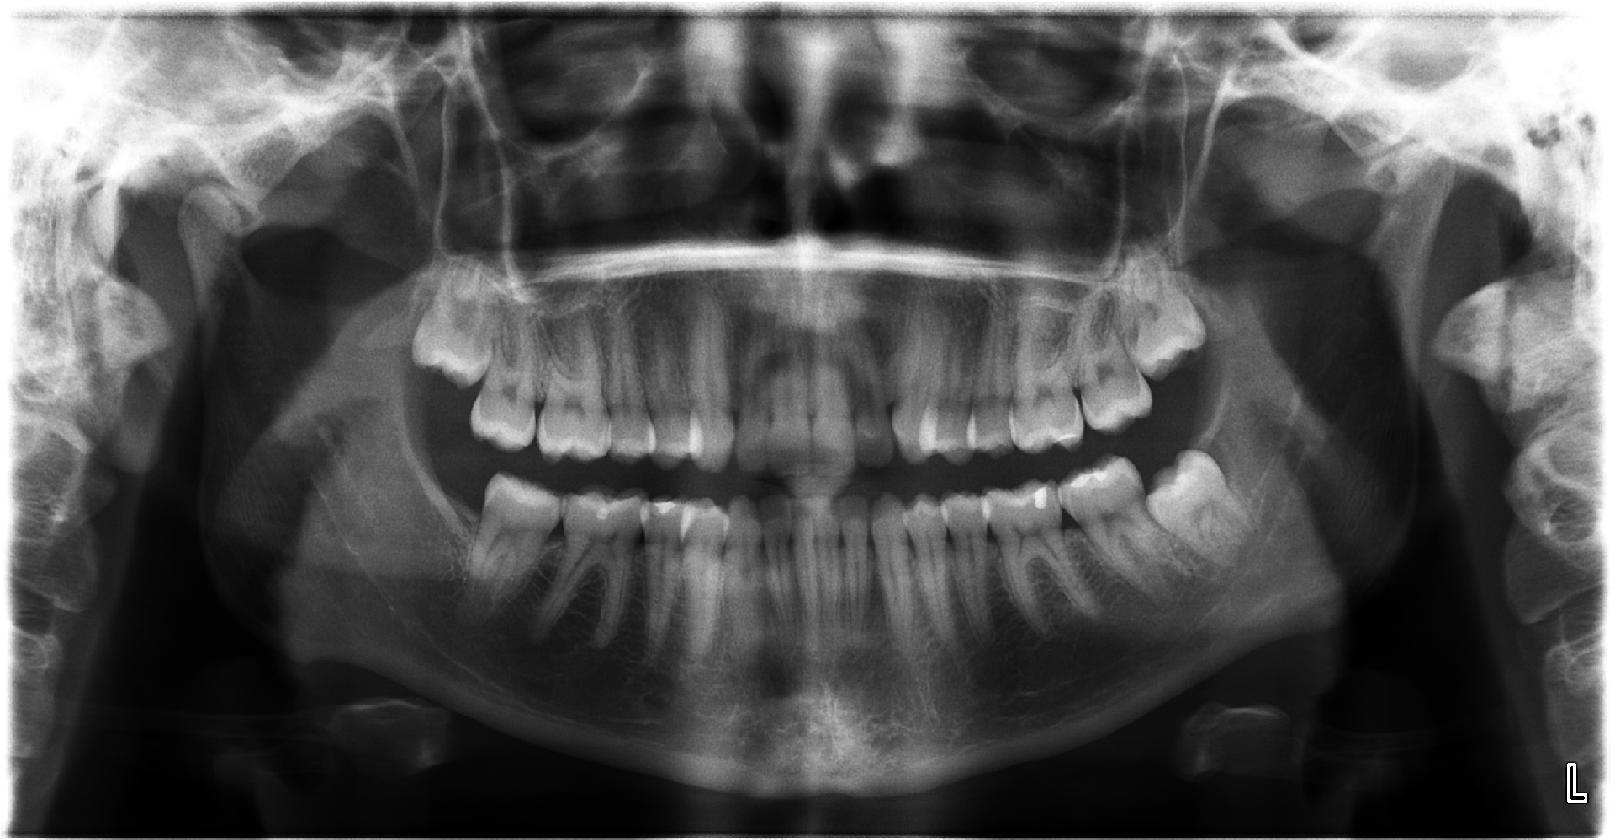Mesio-angular: (1144, 445, 1265, 574)
